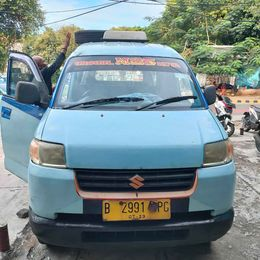plate: (98, 197, 174, 221)
